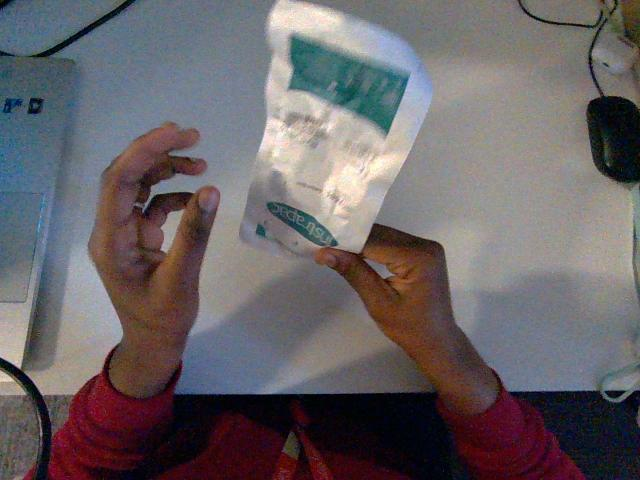gallipot: (240, 0, 431, 256)
